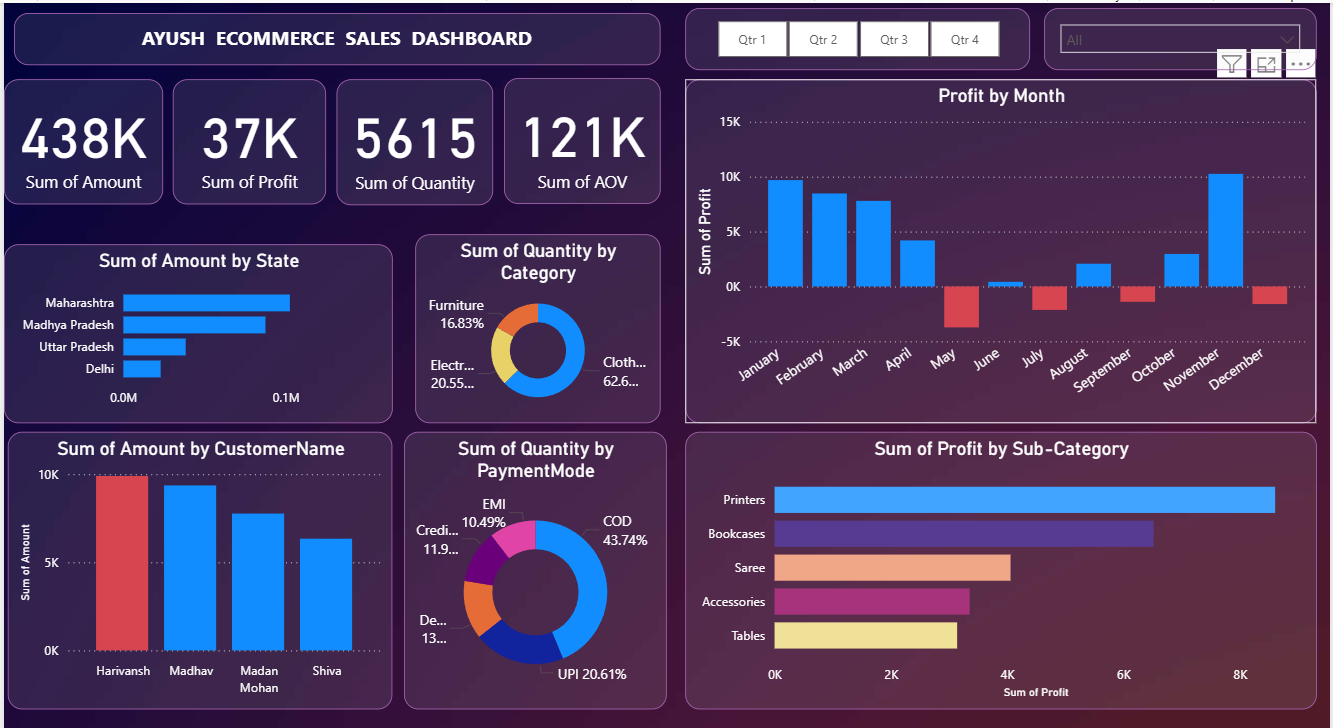

The page's visual inventory and layout, read from the dashboard file:
{"tool":"powerbi","page":{"name":"Page 1","canvas":[1280,720],"ordinal":0},"visuals":[{"type":"columnChart","title":"Profit by Month","fields":{"Y":["Details.Profit"],"Category":["Orders.Order Date.Variation.Date Hierarchy.Month"]},"box":[657.5,73.6,609.3,331.8],"z":1000},{"type":"clusteredBarChart","fields":{"Category":["Details.Sub-Category"],"Y":["Details.Profit"]},"box":[657.5,413.8,609.3,267.8],"z":2000},{"type":"donutChart","fields":{"Category":["Details.Category"],"Y":["Details.Quantity"]},"box":[396.9,223.2,236.5,182.2],"z":3000},{"type":"donutChart","fields":{"Y":["Details.Quantity"],"Category":["Details.PaymentMode"]},"box":[386.1,413.8,253.4,267.8],"z":4000},{"type":"card","fields":{"Values":["Details.Amount"]},"box":[0,73.6,153.2,120.6],"z":5000},{"type":"card","fields":{"Values":["Details.Profit"]},"box":[162.9,73.6,148.4,120.6],"z":6000},{"type":"card","fields":{"Values":["Details.Quantity"]},"box":[320.9,73.6,150.8,121.9],"z":7000},{"type":"card","fields":{"Values":["Details.AOV"]},"box":[482.6,72.4,150.8,121.9],"z":8000},{"type":"clusteredBarChart","fields":{"Category":["Orders.State"],"Y":["Details.Amount"]},"box":[0,232.8,375.2,172.5],"z":9000},{"type":"columnChart","fields":{"Category":["Orders.CustomerName"],"Y":["Details.Amount"]},"box":[3.6,413.8,371.6,267.8],"z":10000},{"type":"slicer","fields":{"Values":["Orders.Order Date.Variation.Date Hierarchy.Quarter"]},"box":[657.5,4.8,333,60.3],"z":10001},{"type":"textbox","box":[9.7,9.7,623.7,50.7],"z":10002},{"type":"slicer","fields":{"Values":["Orders.State"]},"box":[1003.8,4.8,263,60.3],"z":10003}]}

Visuals, with their boxes in screenshot pixels (x1, y1, x2, y2), scaled from the page's 1280x720 canvas onto the 1333x728 screenshot:
"Profit by Month" columnChart: {"x1": 685, "y1": 74, "x2": 1319, "y2": 410}
clusteredBarChart - Details.Sub-Category x Details.Profit: {"x1": 685, "y1": 418, "x2": 1319, "y2": 689}
donutChart - Details.Category x Details.Quantity: {"x1": 413, "y1": 226, "x2": 660, "y2": 410}
donutChart - Details.Quantity x Details.PaymentMode: {"x1": 402, "y1": 418, "x2": 666, "y2": 689}
card - Details.Amount: {"x1": 0, "y1": 74, "x2": 160, "y2": 196}
card - Details.Profit: {"x1": 170, "y1": 74, "x2": 324, "y2": 196}
card - Details.Quantity: {"x1": 334, "y1": 74, "x2": 491, "y2": 198}
card - Details.AOV: {"x1": 503, "y1": 73, "x2": 660, "y2": 196}
clusteredBarChart - Orders.State x Details.Amount: {"x1": 0, "y1": 235, "x2": 391, "y2": 410}
columnChart - Orders.CustomerName x Details.Amount: {"x1": 4, "y1": 418, "x2": 391, "y2": 689}
slicer - Orders.Order Date.Variation.Date Hierarchy.Quarter: {"x1": 685, "y1": 5, "x2": 1032, "y2": 66}
textbox: {"x1": 10, "y1": 10, "x2": 660, "y2": 61}
slicer - Orders.State: {"x1": 1045, "y1": 5, "x2": 1319, "y2": 66}
